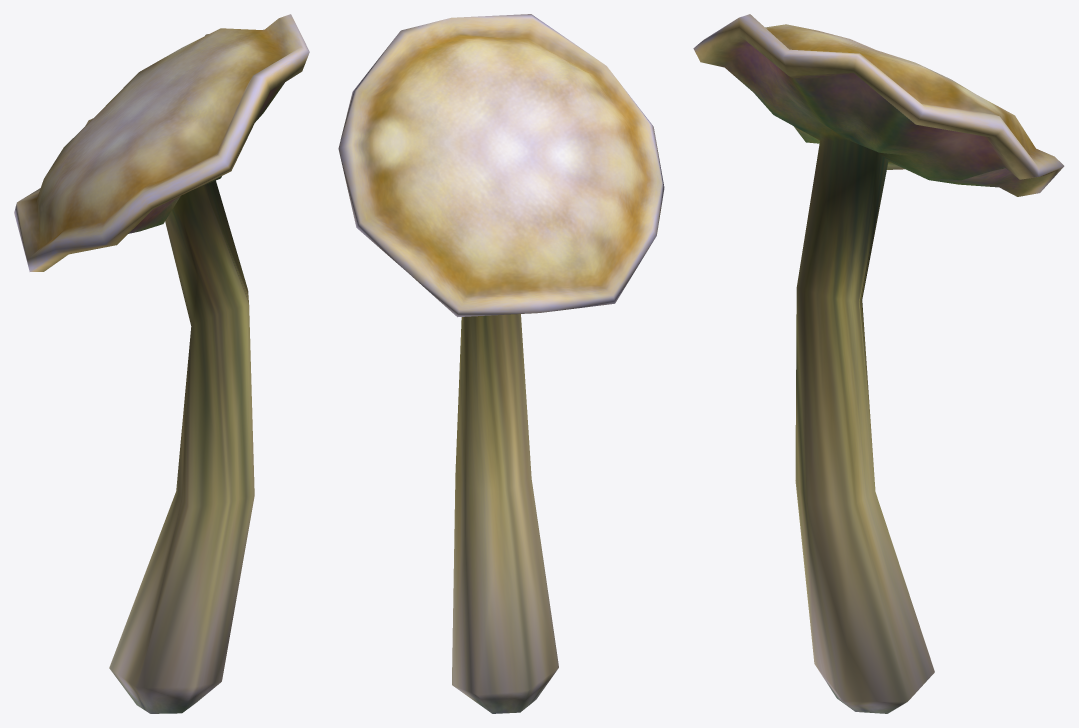
File: TallWhite_DEFAULT.dae
3 views of the same model, side by side, from view 1: azimuth 30°, elevation 25°; view 2: azimuth 150°, elevation 25°; view 3: azimuth 270°, elevation 25° (orthographic). The views are drawn at different scales.
Visible parts, largest first — view 1: mesh0; view 2: mesh0; view 3: mesh0.
Part boxes in pixels (<box>): mesh0: <box>14,14,309,713</box>; mesh0: <box>338,14,664,713</box>; mesh0: <box>693,14,1064,713</box>.
Bounding box in the file's own units: 1.19 × 2.82 × 1.34.
